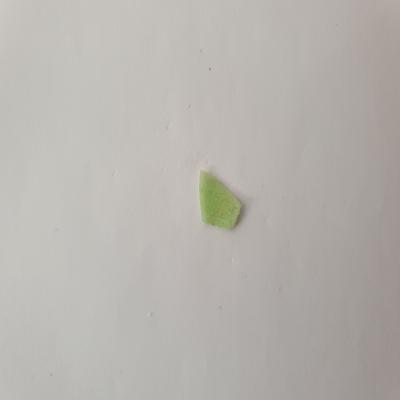plastic: (193, 163, 248, 234)
